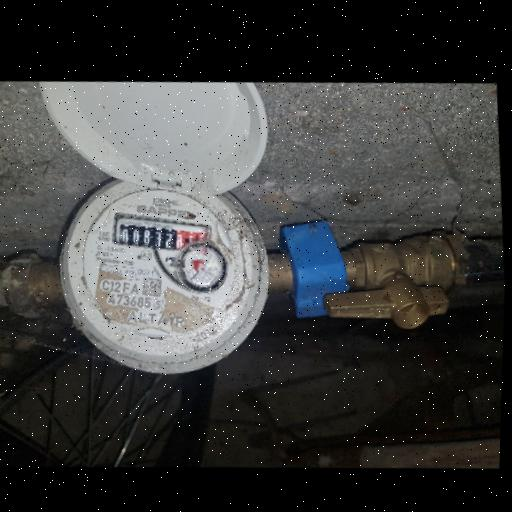0: (118, 223, 132, 244), (129, 224, 143, 245)
2: (161, 228, 176, 251)
3: (150, 226, 165, 249)
5: (185, 230, 199, 249)
6: (197, 227, 207, 244)
8: (174, 229, 188, 252), (140, 226, 154, 247)
border_water_meter_number: (109, 205, 215, 264)
